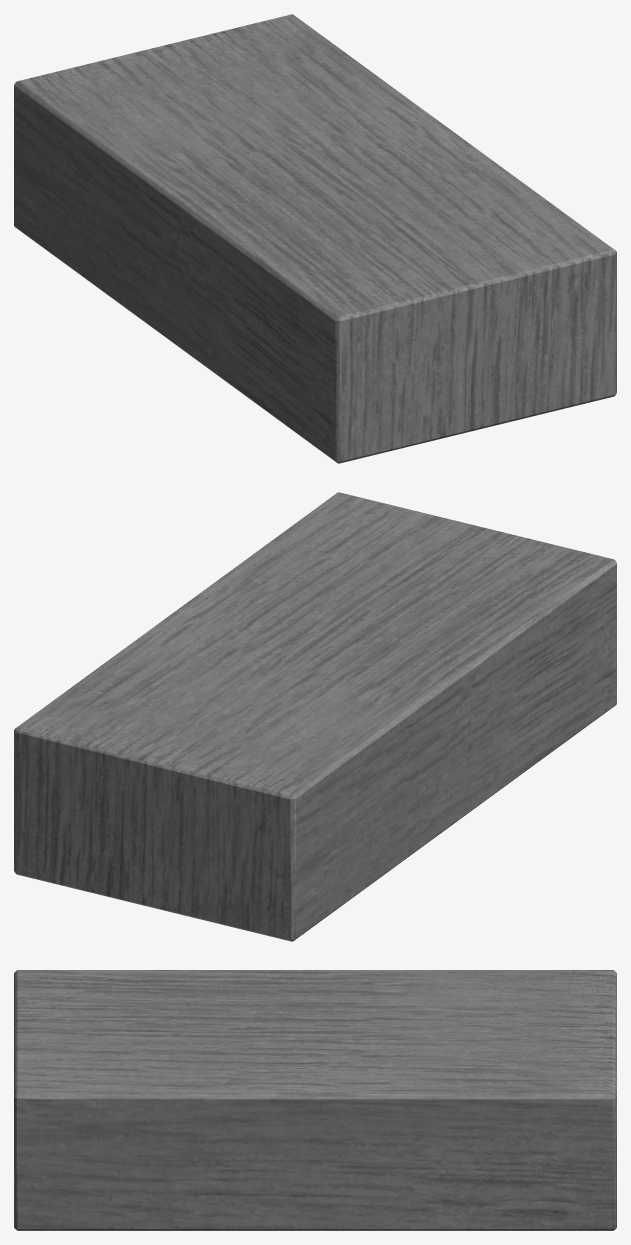
File: BlockObject1.obj
3 renders of one model, top to bottom at view 1: azimuth 30°, elevation 25°; view 2: azimuth 150°, elevation 25°; view 3: azimuth 270°, elevation 25°, orthographic. The views are drawn at different scales.
Visible parts, largest first — view 1: pCube1; view 2: pCube1; view 3: pCube1.
Part boxes in pixels (<box>): pCube1: <box>14,14,616,463</box>; pCube1: <box>14,492,616,941</box>; pCube1: <box>14,970,616,1230</box>.
Bounding box in the file's own units: 200 × 100 × 400.
Materials: 1 (1 with a texture image).
